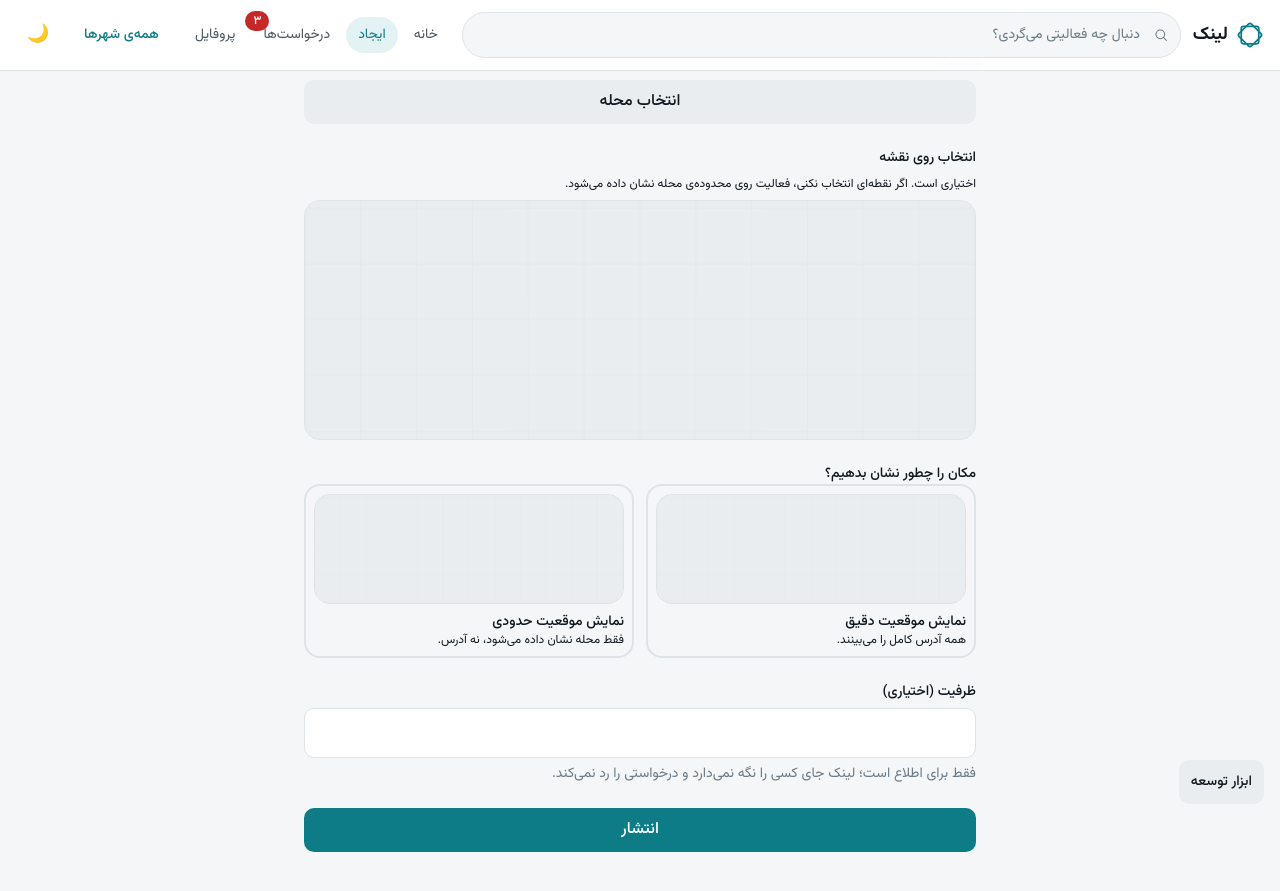
the composer screen › blocks publishing until a precision is chosen
The width and height of the screenshot is (1280, 891).
(page scrolled)
Click the button with test id "composer-submit": x=640, y=830 304,808 -> 976,852
(page scrolled)
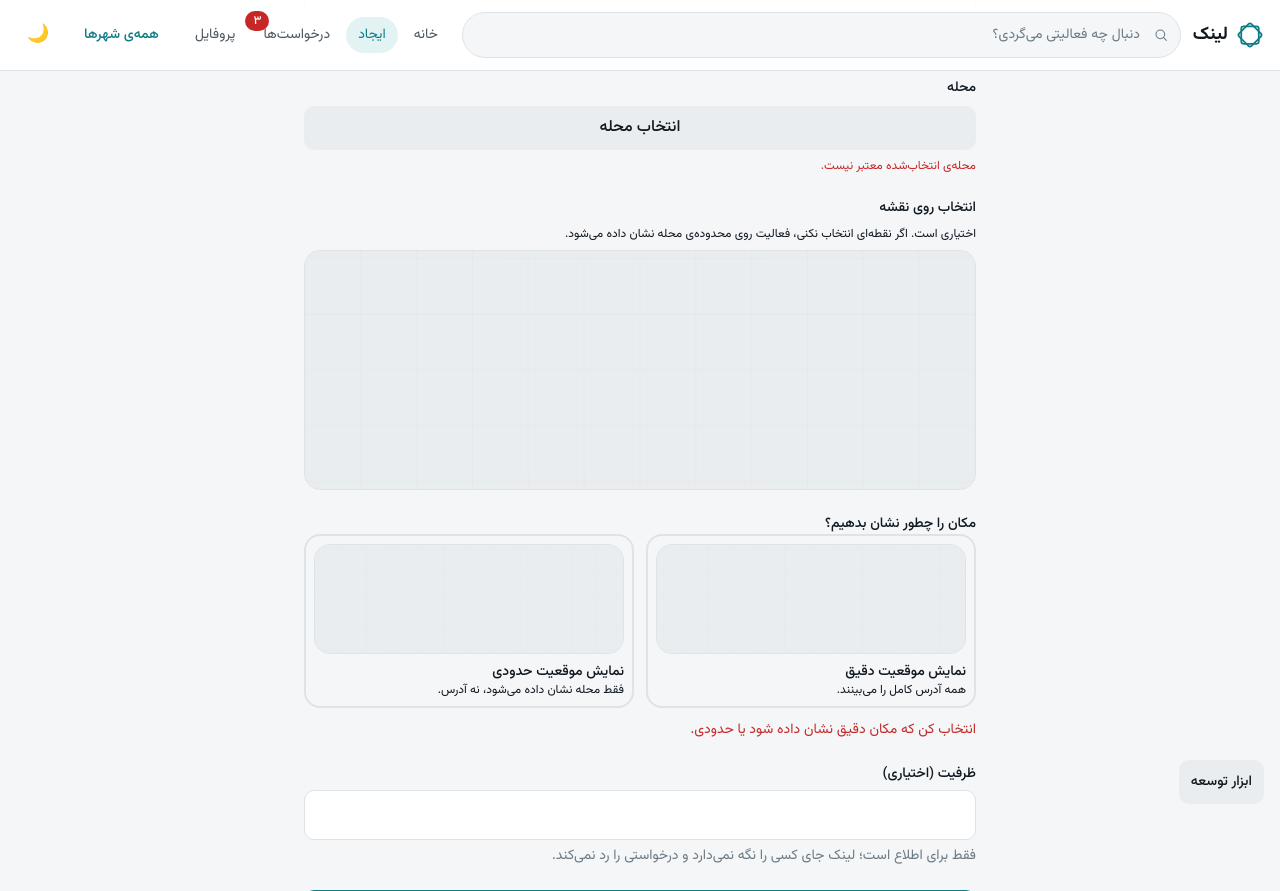
Result: the message "انتخاب کن که مکان دقیق نشان داده شود یا حدودی." is shown at 690,719 -> 976,741
